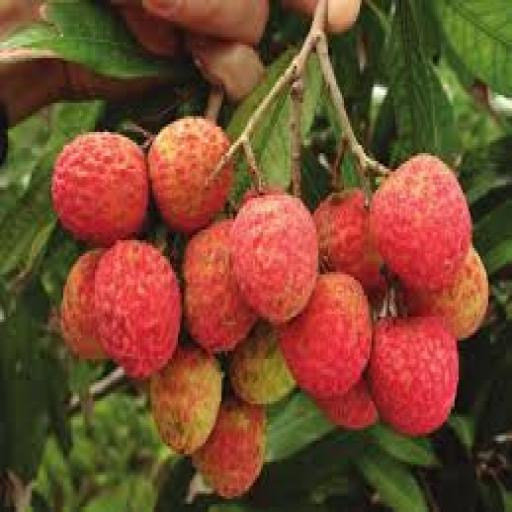lychee: (370, 154, 470, 290), (95, 241, 181, 380), (281, 272, 371, 398), (232, 193, 318, 324), (52, 132, 148, 245), (368, 317, 458, 435), (149, 117, 233, 232), (184, 220, 256, 353), (151, 346, 221, 453), (406, 249, 488, 340), (192, 399, 264, 498), (315, 191, 383, 290), (230, 322, 294, 403), (62, 251, 106, 361), (119, 3, 179, 58), (317, 378, 377, 430)
